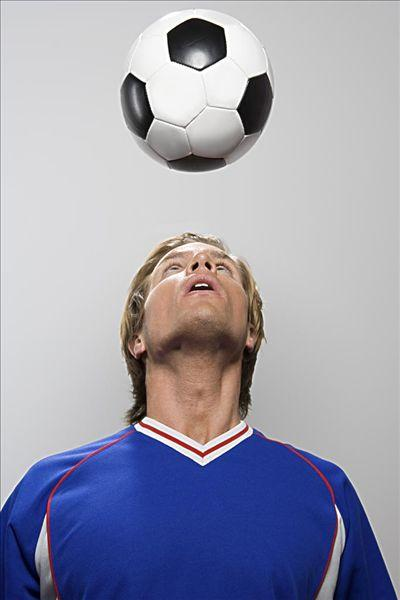football: (112, 6, 279, 174)
